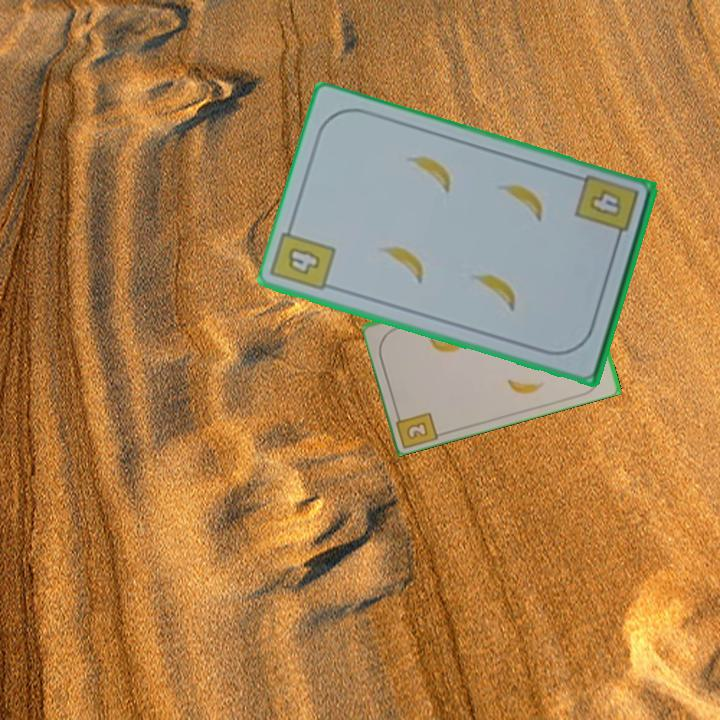2b: (392, 405, 443, 449)
4b: (572, 171, 641, 248), (283, 244, 323, 278)
